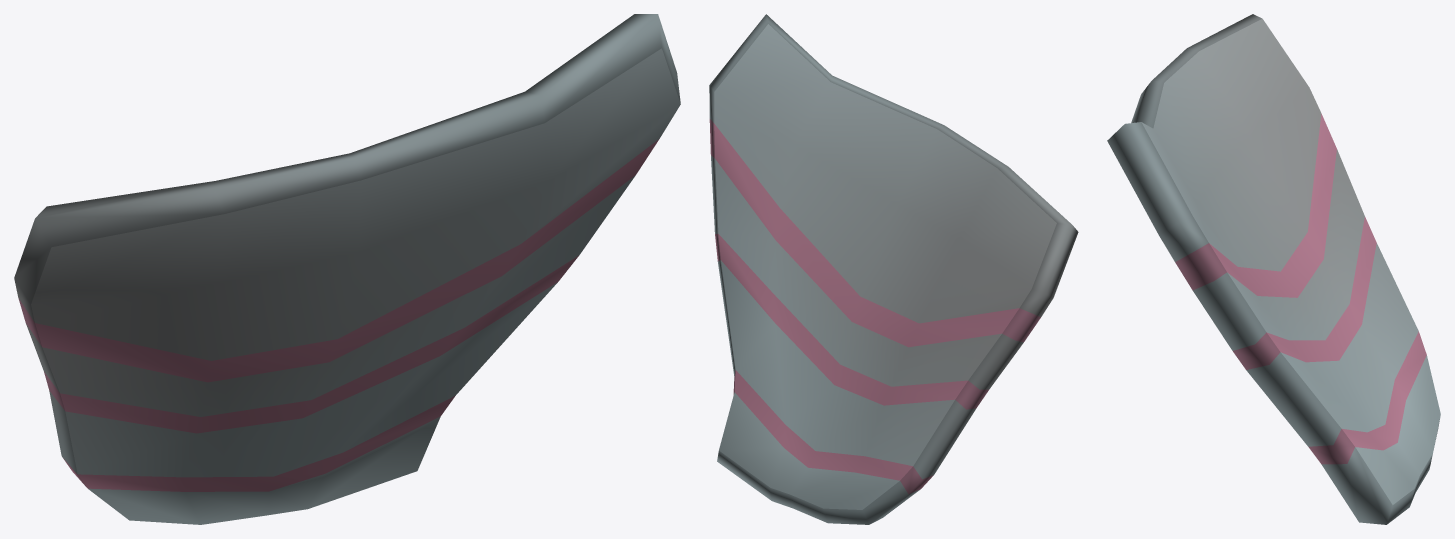
Rendered from microscopic-dust-particles-microplastic_v1.glb.
3 views of the same model, side by side, from view 1: azimuth 30°, elevation 25°; view 2: azimuth 150°, elevation 25°; view 3: azimuth 270°, elevation 25° (orthographic). The views are drawn at different scales.
Visible parts, largest first — view 1: Microplastic; view 2: Microplastic; view 3: Microplastic.
Boxes of the visible parts, box(x1,y1,x2,y2) form: Microplastic: box(14, 14, 680, 524); Microplastic: box(709, 14, 1078, 524); Microplastic: box(1107, 14, 1440, 524).
Size of the model in its own units: 0.1 by 0.0907 by 0.0599.
